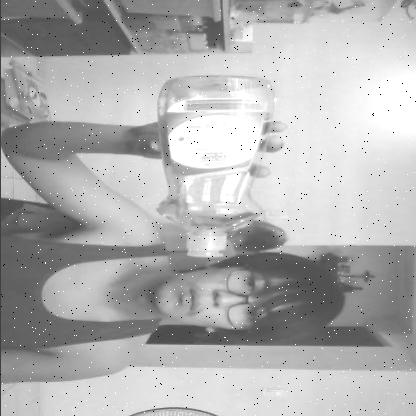Plastic Bottle: (142, 72, 291, 262)
